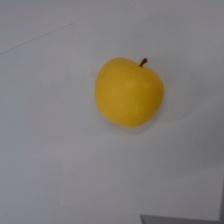yellow: (92, 52, 167, 131)
